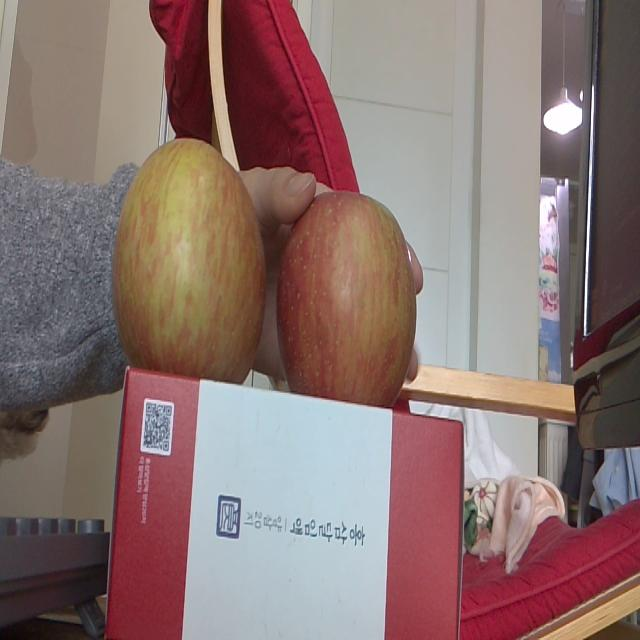apple: (113, 137, 266, 380), (278, 194, 416, 409)
